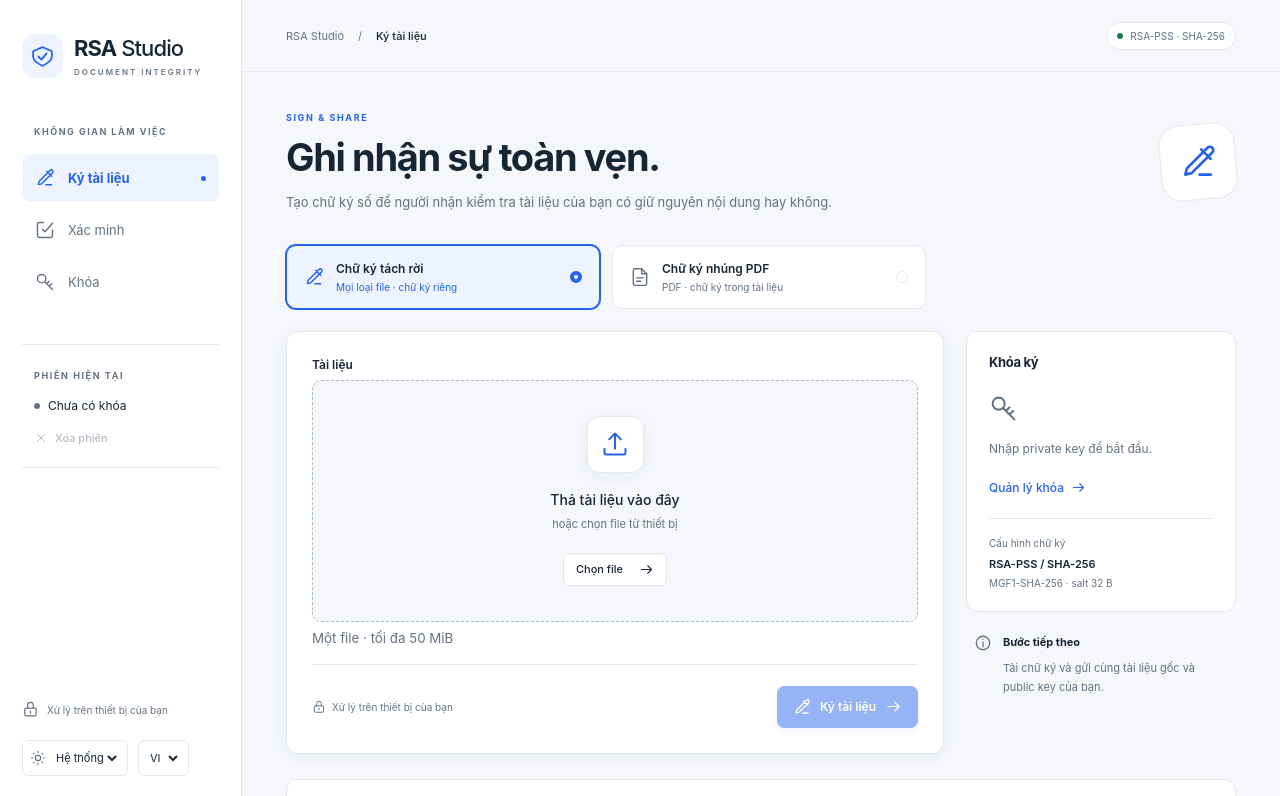
Test: UI with the production crypto worker over a Node transport › switches language and theme and persists only preferences
The image size is (1280, 796).
Step 1. Select "EN" in the dropdown named "Ngôn ngữ" → (164, 758), box top-left (146, 747), bottom-right (181, 769)
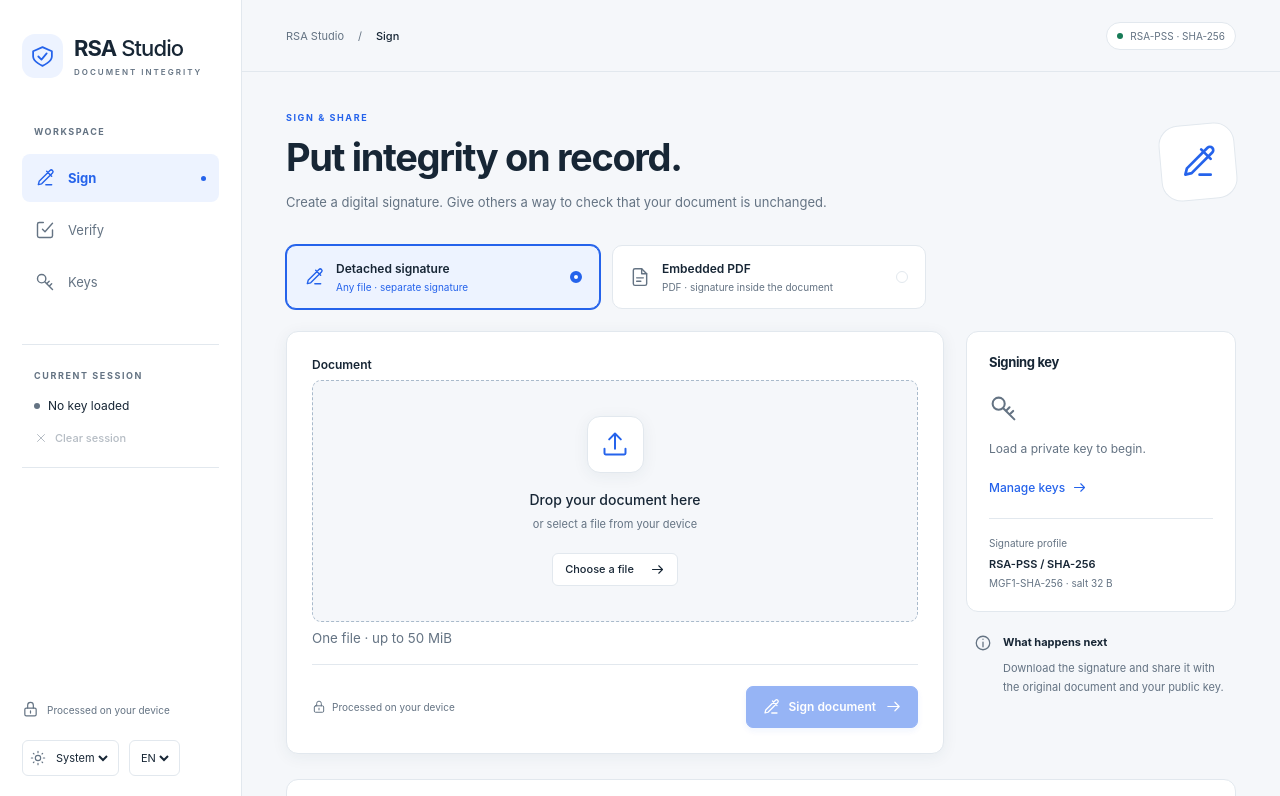
Expected: the heading "Put integrity on record." is shown, top-left (286, 134), bottom-right (682, 180)
Step 2. Select "Dark" in the dropdown named "Appearance" → (82, 758), box top-left (52, 747), bottom-right (111, 769)
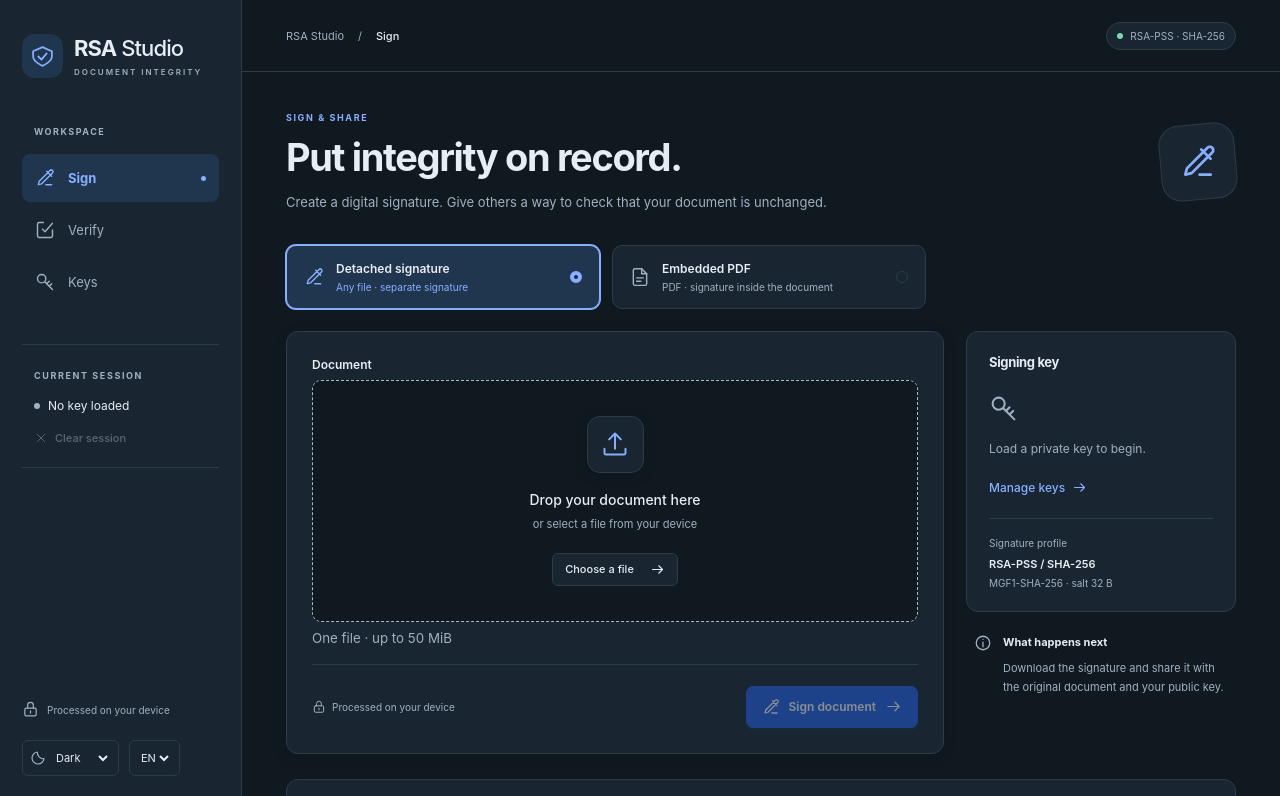
Step 3. Select "VI" in the dropdown named "Language" → (154, 758), box top-left (137, 747), bottom-right (172, 769)
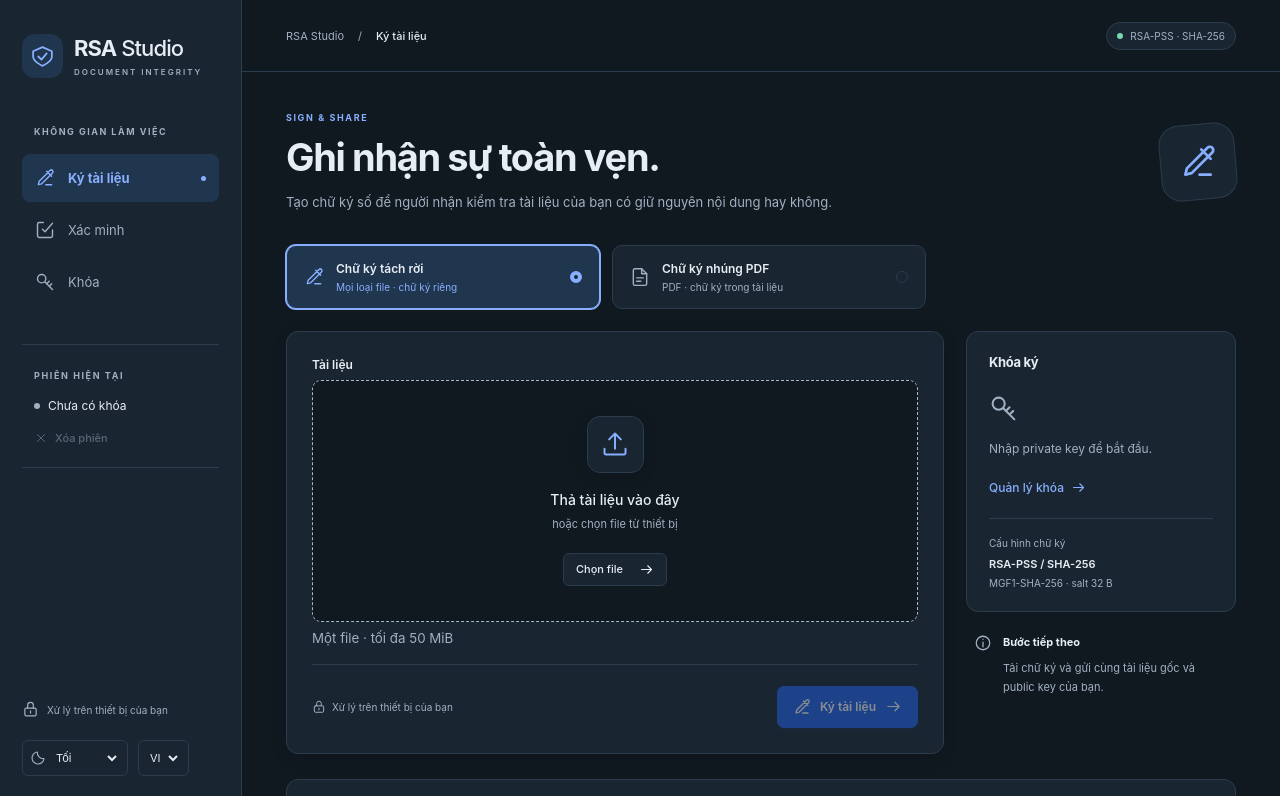
Expected: the heading "Ghi nhận sự toàn vẹn." is shown, top-left (286, 134), bottom-right (660, 180)
